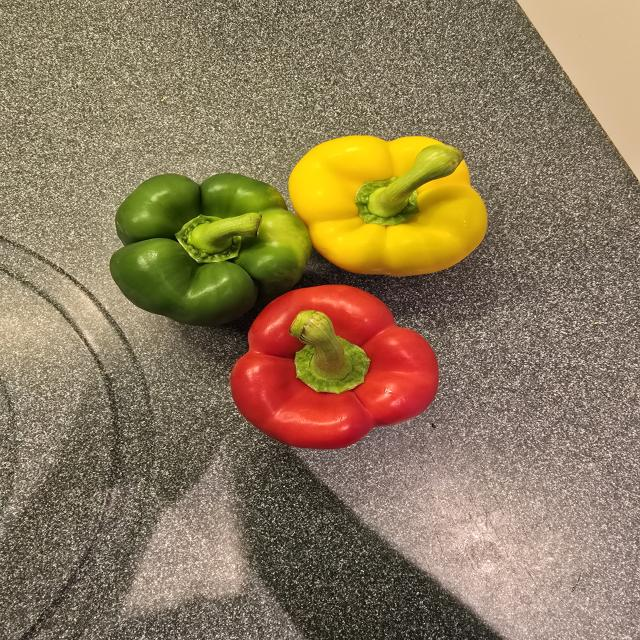Bell Pepper: (223, 280, 444, 455), (103, 168, 314, 332), (281, 130, 500, 283)
